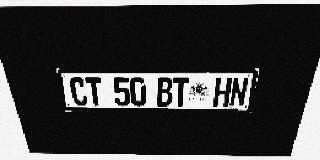0: (129, 77, 146, 106)
5: (113, 77, 131, 106)
B: (157, 78, 173, 106)
C: (69, 77, 89, 106)
H: (213, 78, 232, 107)
N: (229, 78, 249, 107)
T: (85, 77, 104, 106), (173, 78, 189, 106)
